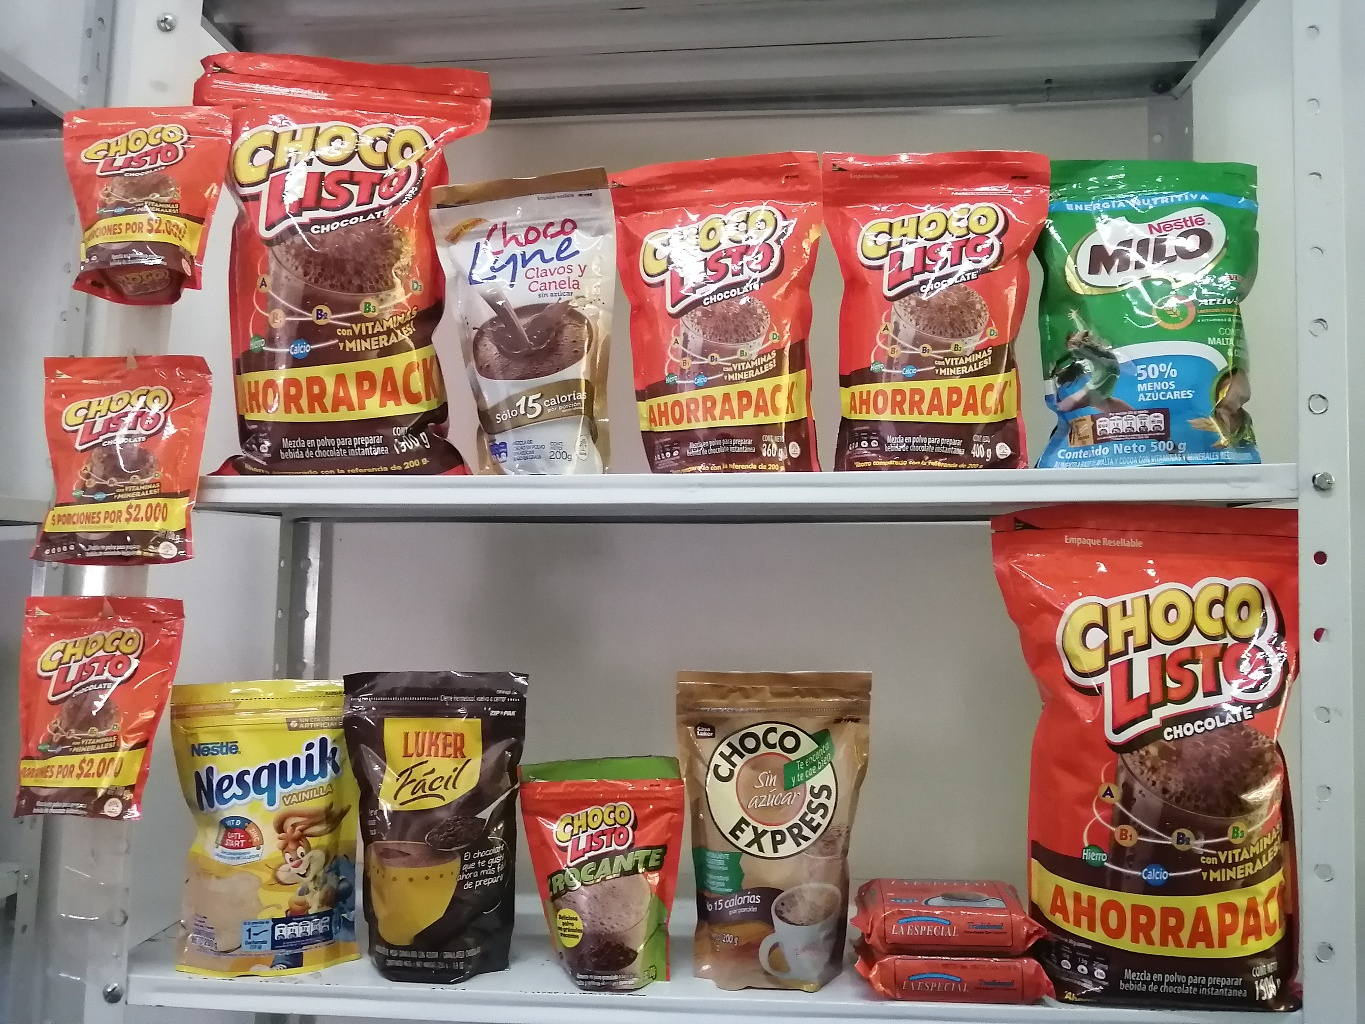COL0170102DYP10000: (529, 734, 697, 997)
COL0170103DYP1,500: (191, 35, 490, 484)
COL0170103DYP10000: (58, 90, 223, 316)
COL0170103DYP36000: (599, 147, 821, 473)
COL0170103DYP40000: (822, 137, 1048, 473)
COL0170205DYP50000: (1037, 142, 1284, 471)
COL0170306DYP20000: (160, 671, 364, 971)
